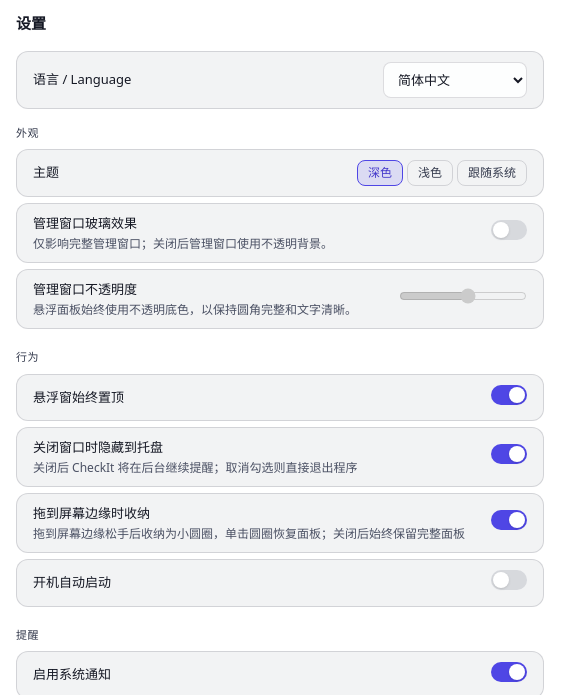
Test case: SettingsPanel 默认提醒 › 保存失败可见，玻璃关闭后禁用不透明度
Expected: the slider is disabled, [399,288,527,304]
Click the switch named "管理窗口玻璃效果". click: (509, 230)
box: [491,220,527,240]
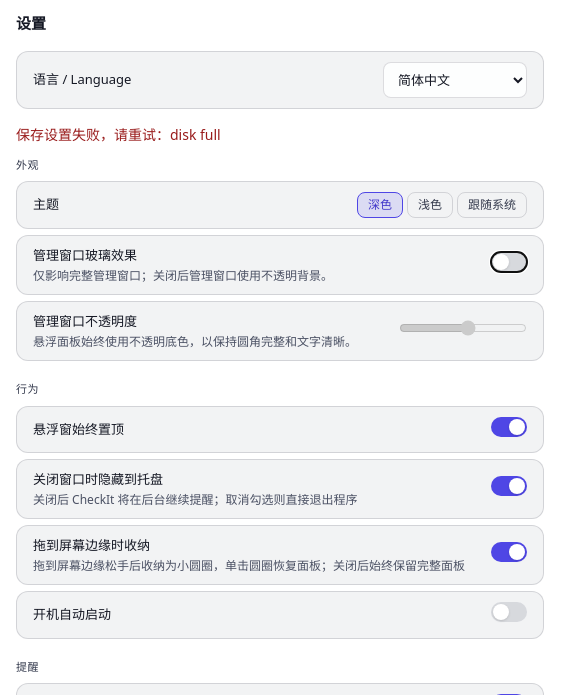
Expected: the message shows "保存设置失败", [16,124,221,144]
